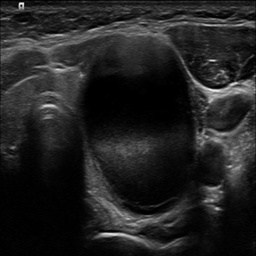mass: (76, 33, 193, 208)
